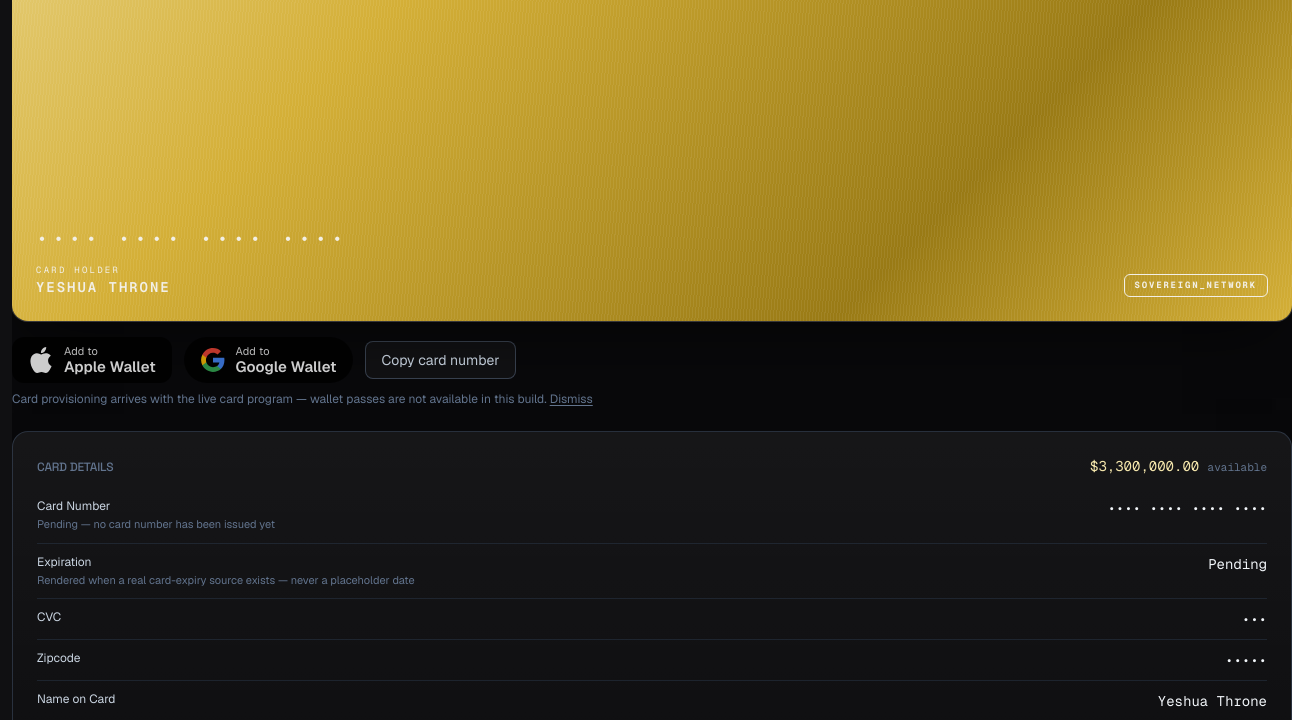
Scenario: GoldNote actions — honest interactivity › pending state: copy click shows the honest no-number feedback and never touches the clipboard
The width and height of the screenshot is (1292, 720).
(page scrolled)
Click the button with test id "goldnote-copy-number" at [440, 360], box [364,341,516,379]
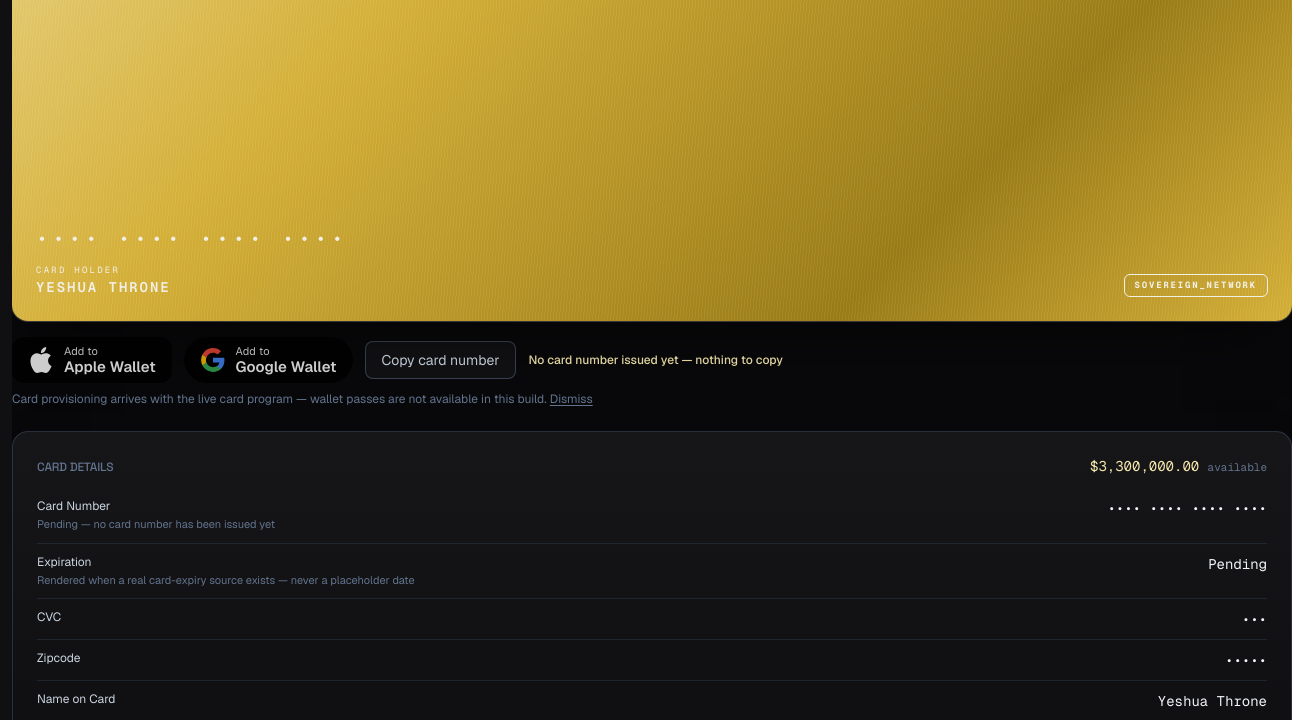
Expected: the message with test id "goldnote-copy-feedback" reads "No card number issued yet — nothing to copy", [528,352,783,368]
